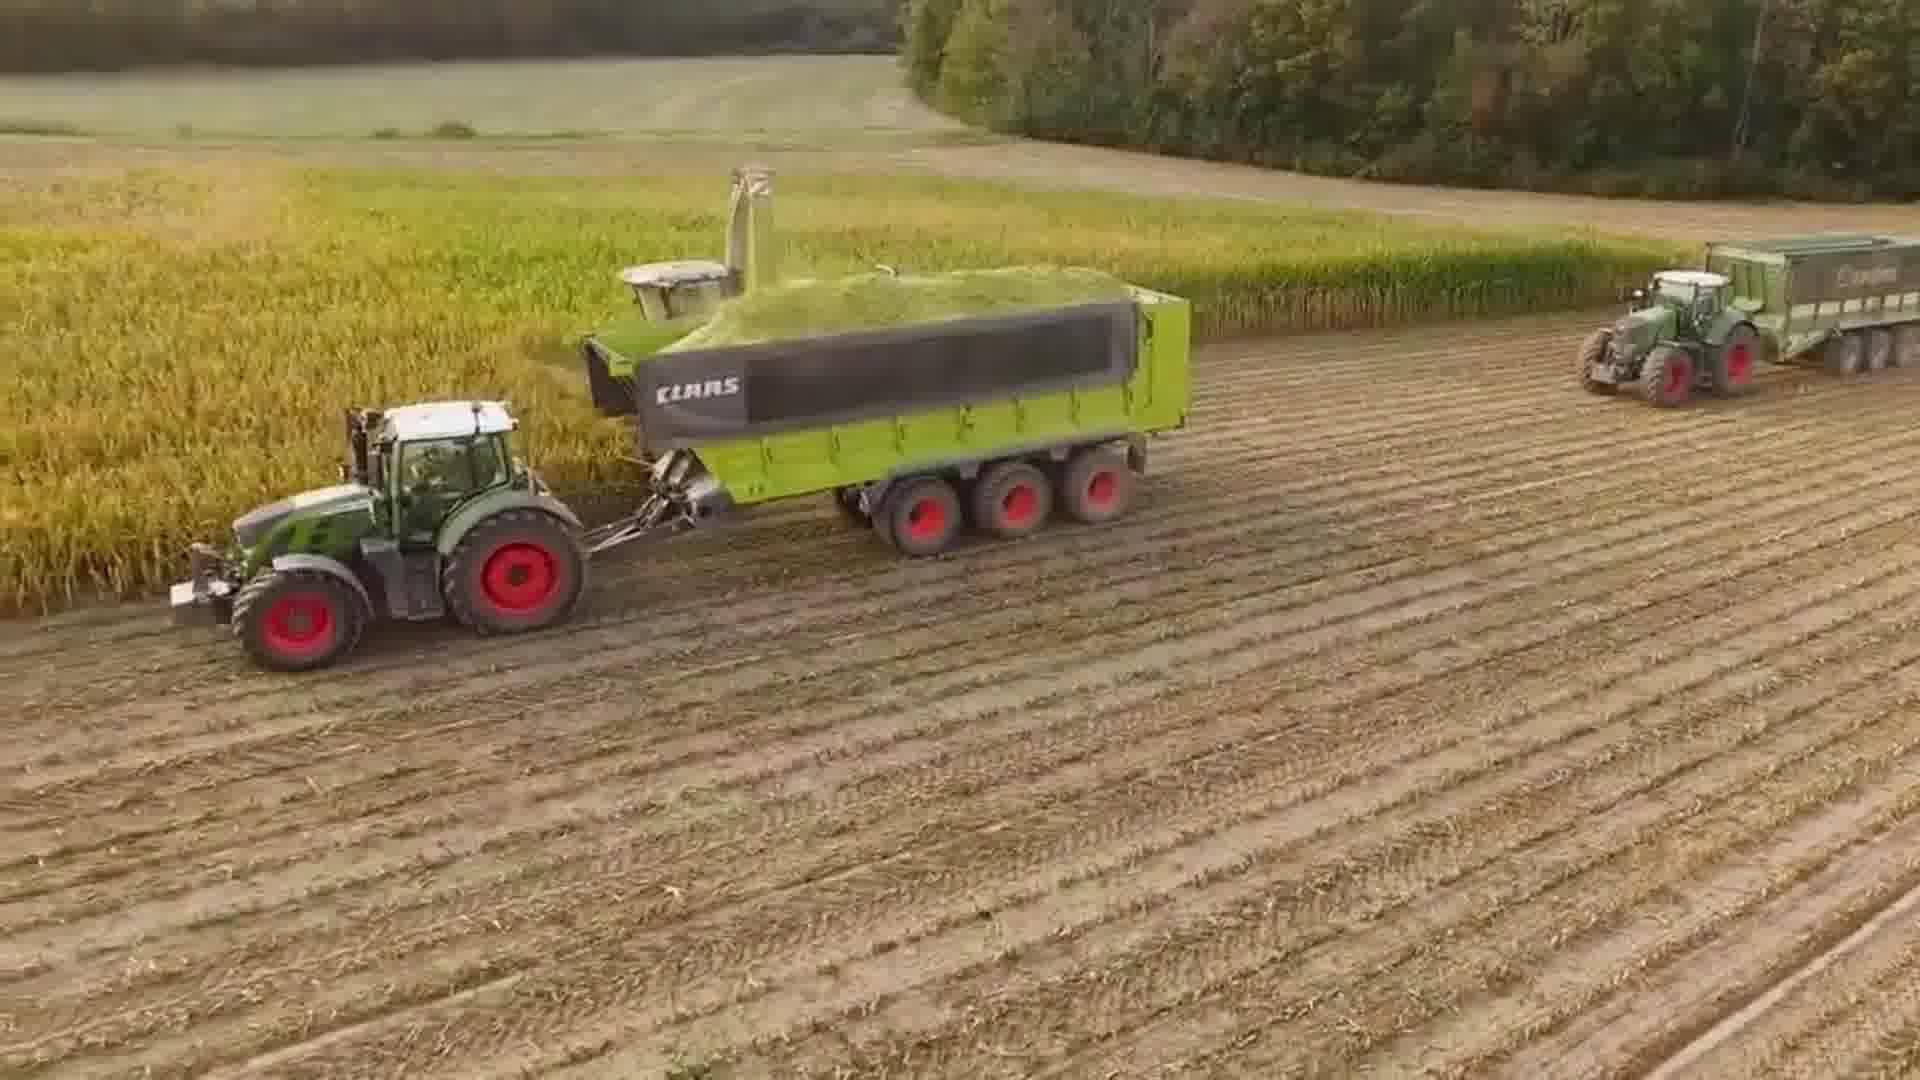combine harvester: (612, 154, 783, 327)
tractor: (156, 390, 593, 682), (1576, 264, 1767, 414)
trailer: (578, 260, 1195, 562), (1698, 227, 1920, 385)
